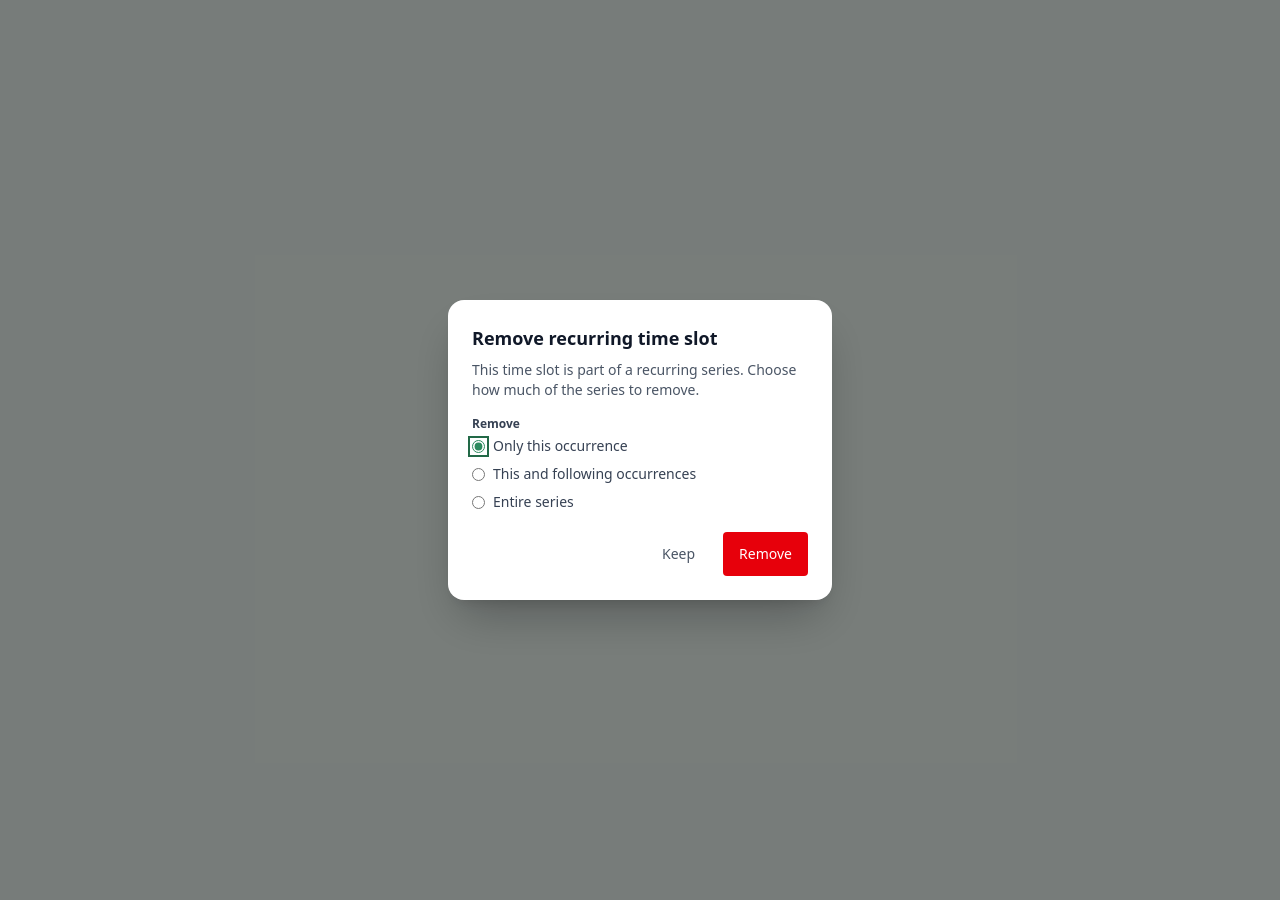
Scenario: DeleteSeriesSlotDialog warning › warns when a wider scope would cancel sign-ups
The width and height of the screenshot is (1280, 900).
Step 1. Click the radio button labelled "Entire series" → (478, 502), box [472,496,485,508]
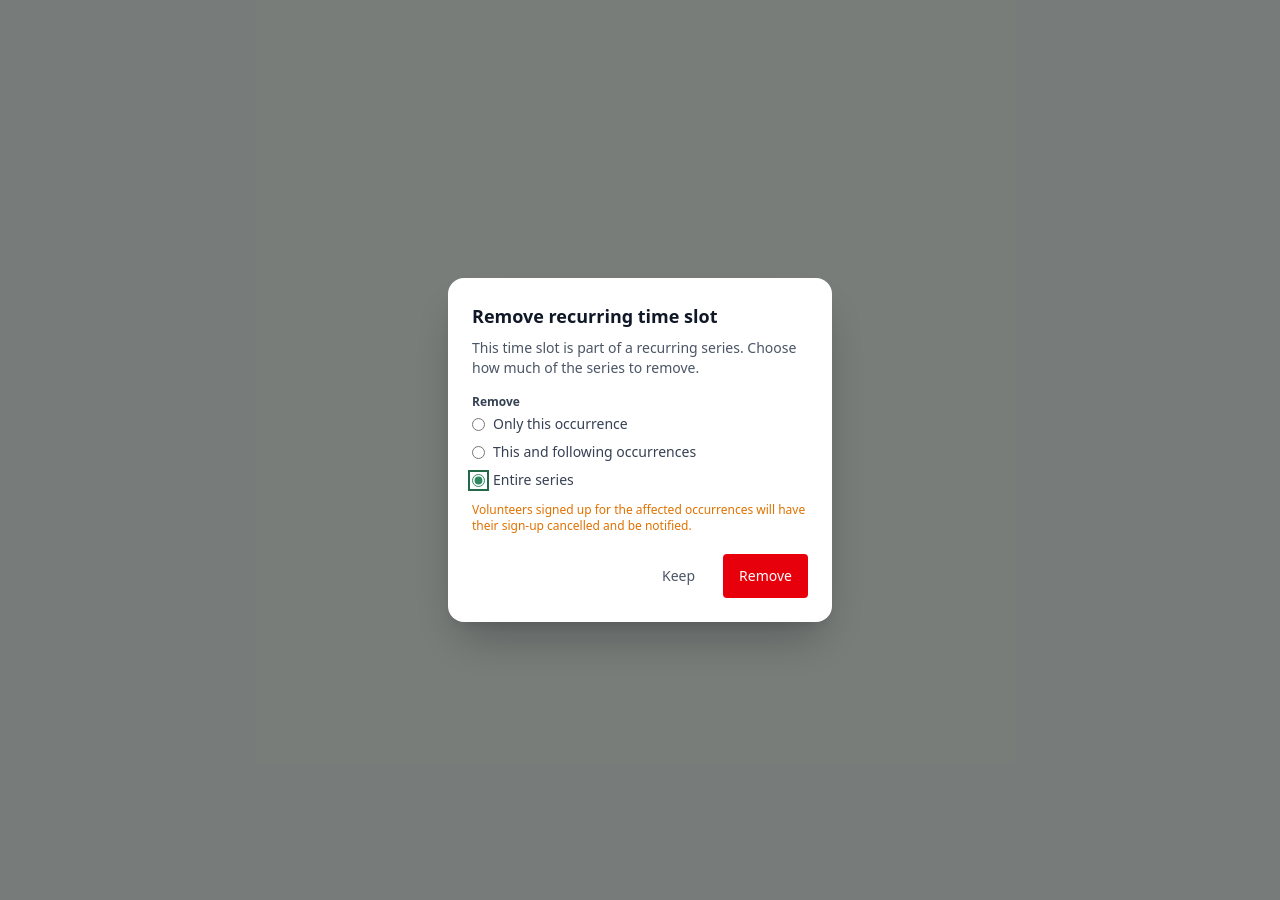
expect the text "sign-up cancelled" is shown: met, box [472,501,805,534]
